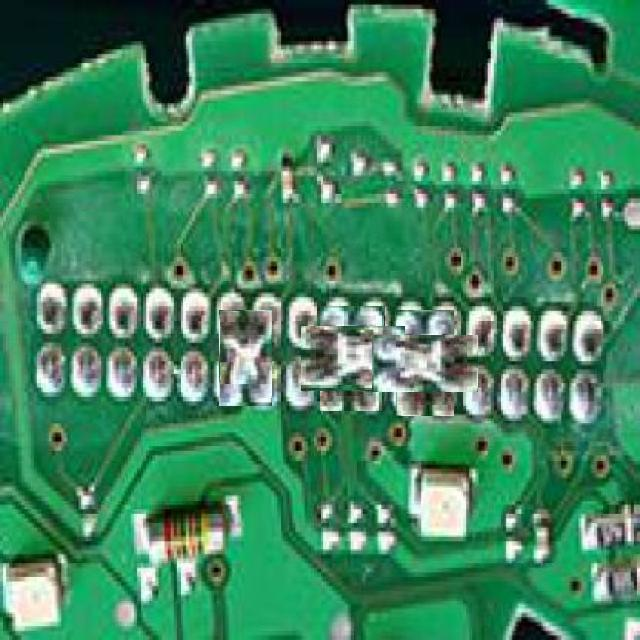Short_circuit: (310, 316, 395, 401), (384, 322, 466, 404), (219, 310, 272, 406)
